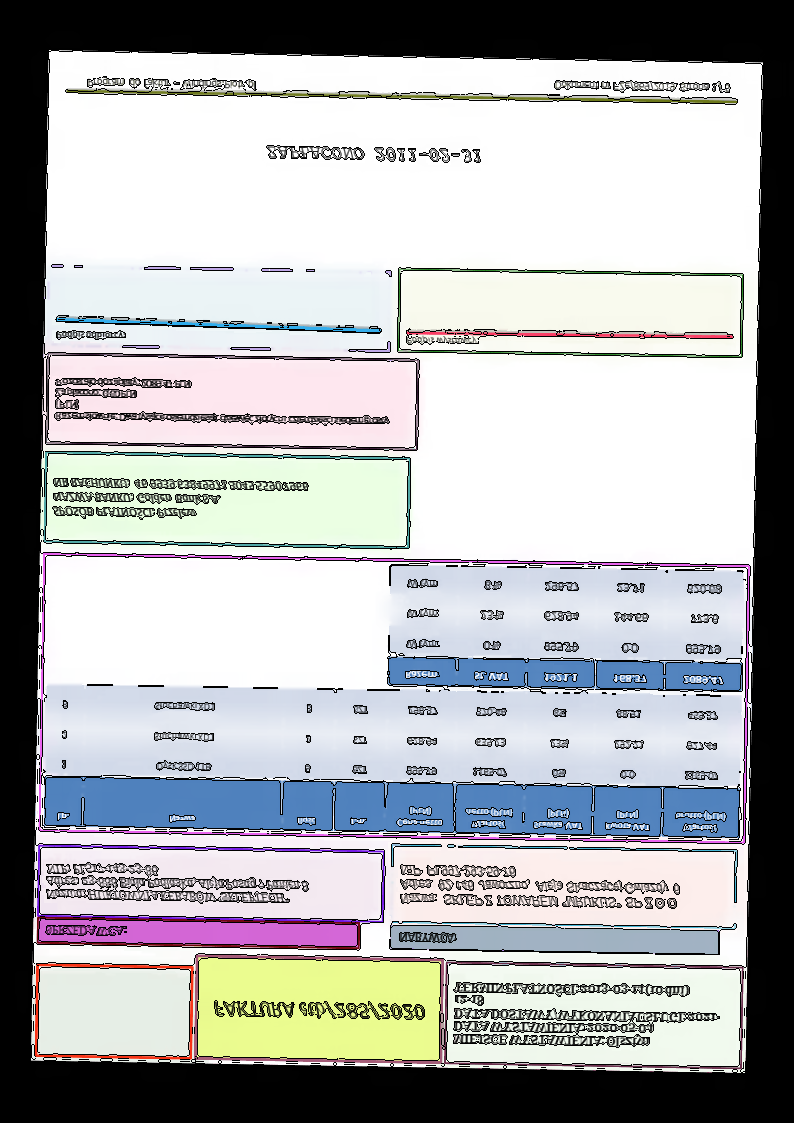Table: (42, 683, 741, 839), (386, 564, 745, 693)
TextBox: (452, 980, 722, 1050), (52, 376, 392, 429), (398, 862, 682, 912), (51, 475, 310, 524), (44, 861, 308, 906), (212, 996, 426, 1024), (265, 142, 483, 164), (552, 74, 731, 96), (85, 74, 257, 91), (43, 922, 129, 938), (52, 327, 130, 342), (398, 928, 458, 945), (404, 333, 480, 346)
